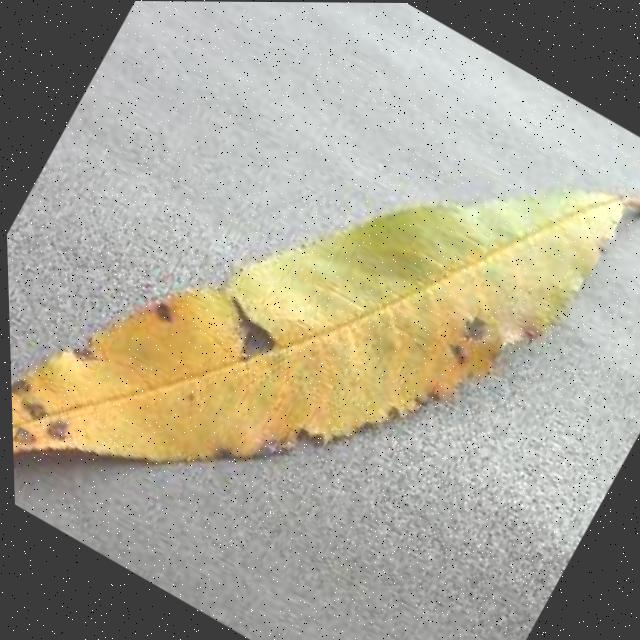Bacterial_spot: (418, 278, 552, 407), (10, 344, 111, 496), (129, 282, 194, 343)
